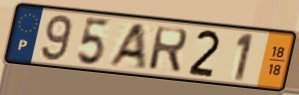1: (234, 32, 256, 84)
2: (187, 29, 221, 80)
5: (74, 15, 114, 67)
9: (39, 13, 75, 63)
A: (104, 22, 148, 70)
R: (146, 25, 190, 76)
